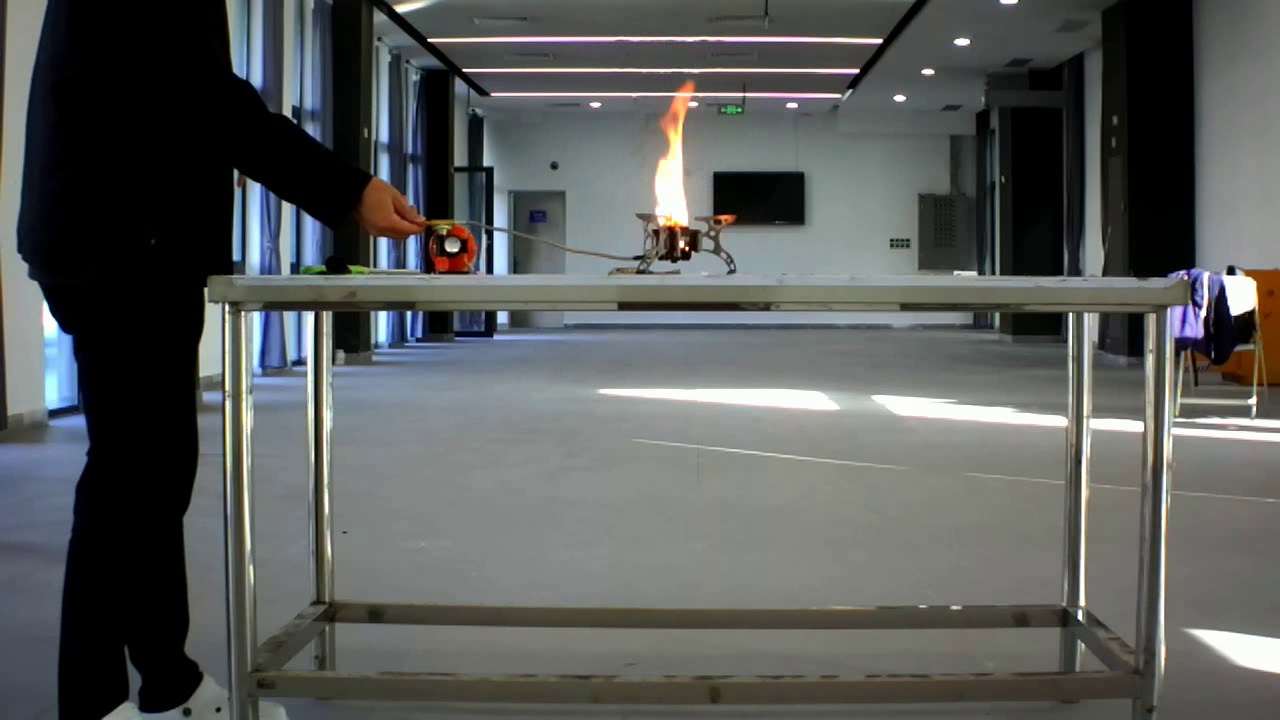Fire: (644, 79, 704, 255)
